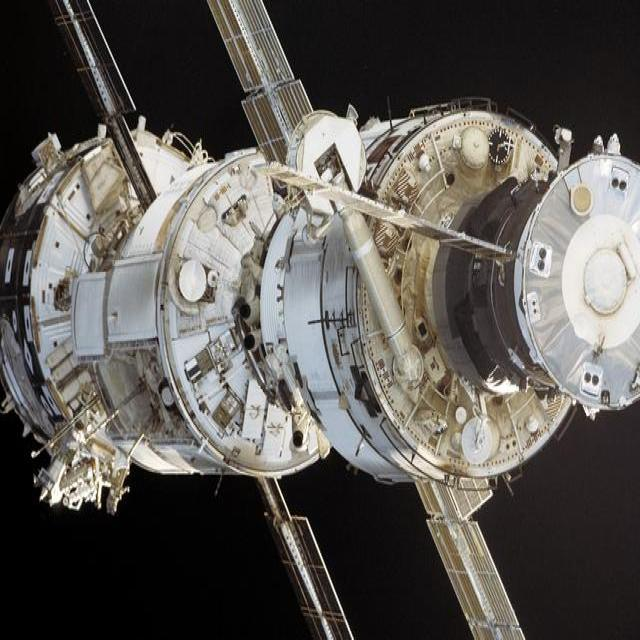satellite: (0, 0, 640, 638)
